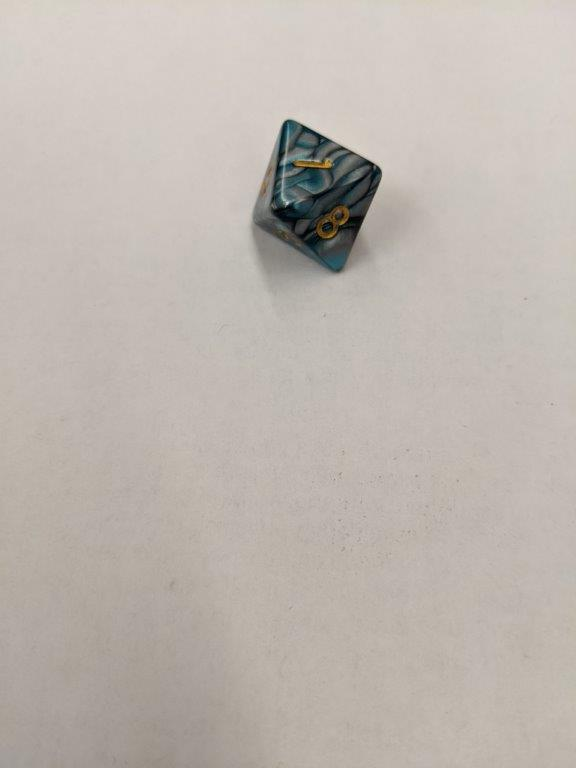d8-1: (251, 116, 383, 277)
